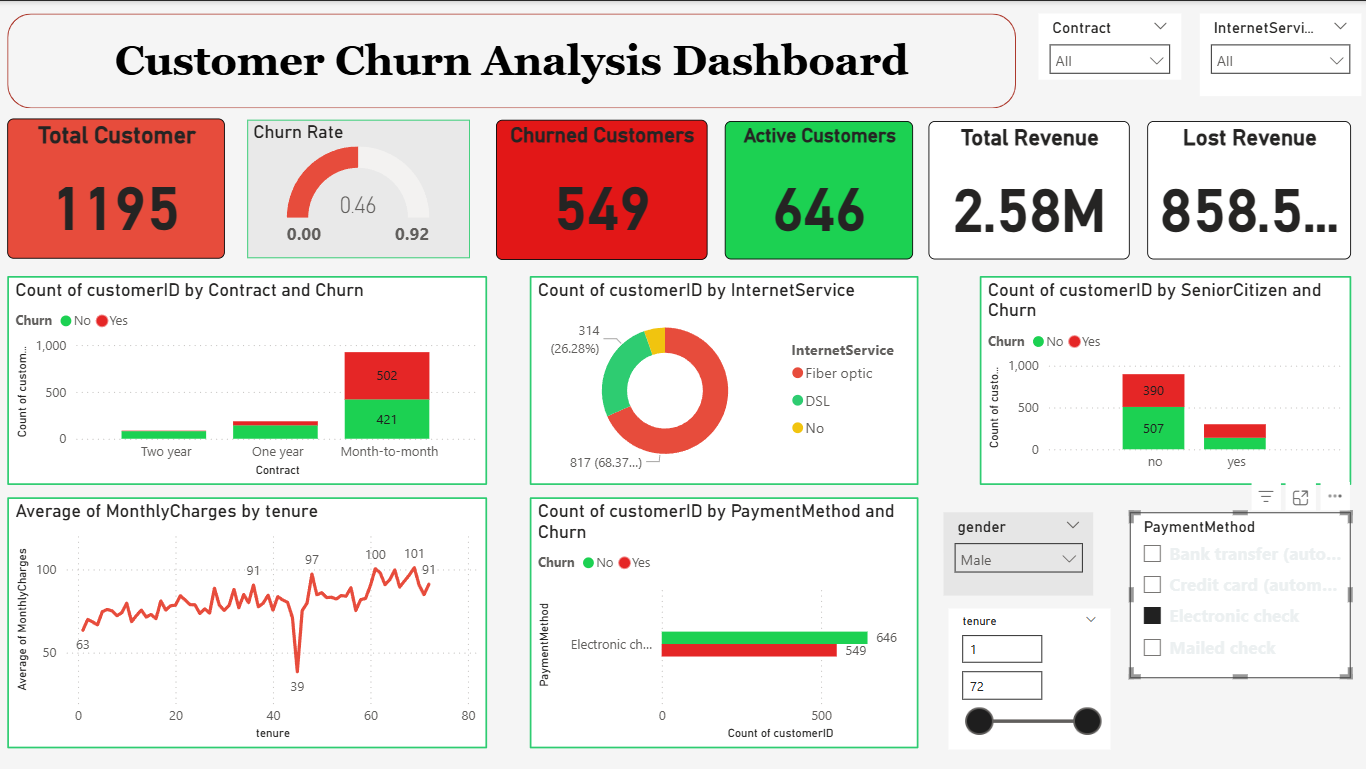

This screenshot's page, from the dashboard's own definition file:
{"tool":"powerbi","page":{"name":"Page 1","canvas":[1280,720],"ordinal":0},"visuals":[{"type":"card","title":"Total Customer ","fields":{"Values":["WA_Fn-UseC_-Telco-Customer-Churn (1).Total Customers"]},"box":[10.5,109.3,202.3,130.2],"z":0},{"type":"card","title":"Churned Customers","fields":{"Values":["WA_Fn-UseC_-Telco-Customer-Churn (1).Churned Customers"]},"box":[465.1,110.5,196.5,130.2],"z":1000},{"type":"card","title":"Active Customers","fields":{"Values":["WA_Fn-UseC_-Telco-Customer-Churn (1).Active Customers"]},"box":[677.9,111.6,175.6,129.1],"z":2000},{"type":"gauge","fields":{"Y":["WA_Fn-UseC_-Telco-Customer-Churn (1).Churn Rate"]},"box":[233.7,110.5,207,129.1],"z":3000},{"type":"card","title":"Total Revenue","fields":{"Values":["WA_Fn-UseC_-Telco-Customer-Churn (1).Total Revenue"]},"box":[867.4,111.6,187.2,129.1],"z":4000},{"type":"card","title":"Lost Revenue","fields":{"Values":["WA_Fn-UseC_-Telco-Customer-Churn (1).Lost Revenue"]},"box":[1070.9,111.6,189.5,129.1],"z":5000},{"type":"columnChart","fields":{"Category":["WA_Fn-UseC_-Telco-Customer-Churn (1).Contract"],"Series":["WA_Fn-UseC_-Telco-Customer-Churn (1).Churn"],"Y":["CountNonNull(WA_Fn-UseC_-Telco-Customer-Churn (1).customerID)"]},"box":[10.5,255.8,446.5,194.2],"z":6000},{"type":"donutChart","fields":{"Category":["WA_Fn-UseC_-Telco-Customer-Churn (1).InternetService"],"Y":["CountNonNull(WA_Fn-UseC_-Telco-Customer-Churn (1).customerID)"]},"box":[496.5,255.8,361.6,194.2],"z":7000},{"type":"lineChart","fields":{"Category":["WA_Fn-UseC_-Telco-Customer-Churn (1).tenure"],"Y":["Avg(WA_Fn-UseC_-Telco-Customer-Churn (1).MonthlyCharges)"]},"box":[10.5,461.6,446.5,233.7],"z":8000},{"type":"clusteredBarChart","fields":{"Category":["WA_Fn-UseC_-Telco-Customer-Churn (1).PaymentMethod"],"Y":["CountNonNull(WA_Fn-UseC_-Telco-Customer-Churn (1).customerID)"],"Series":["WA_Fn-UseC_-Telco-Customer-Churn (1).Churn"]},"box":[496.5,461.6,361.6,233.7],"z":9000},{"type":"columnChart","fields":{"Category":["WA_Fn-UseC_-Telco-Customer-Churn (1).SeniorCitizen"],"Y":["CountNonNull(WA_Fn-UseC_-Telco-Customer-Churn (1).customerID)"],"Series":["WA_Fn-UseC_-Telco-Customer-Churn (1).Churn"]},"box":[915.1,255.8,345.3,194.2],"z":10000},{"type":"slicer","fields":{"Values":["WA_Fn-UseC_-Telco-Customer-Churn (1).gender"]},"box":[881.4,475.6,139.5,77.9],"z":11000},{"type":"slicer","fields":{"Values":["WA_Fn-UseC_-Telco-Customer-Churn (1).Contract"]},"box":[969.8,11.6,132.6,61.6],"z":12000},{"type":"slicer","fields":{"Values":["WA_Fn-UseC_-Telco-Customer-Churn (1).InternetService"]},"box":[1119.8,11.6,150,76.7],"z":13000},{"type":"shape","box":[10.5,11.6,938.4,88.4],"z":14000},{"type":"slicer","fields":{"Values":["WA_Fn-UseC_-Telco-Customer-Churn (1).PaymentMethod"]},"box":[1054.7,475.6,205.8,154.7],"z":15000},{"type":"slicer","fields":{"Values":["WA_Fn-UseC_-Telco-Customer-Churn (1).tenure"]},"box":[886,565.1,150,130.2],"z":16000}]}

Visuals, with their boxes in screenshot pixels (x1, y1, x2, y2), scaled from the page's 1280x720 canvas onto the 1366x769 screenshot:
"Total Customer " card: (left=11, top=117, right=227, bottom=256)
"Churned Customers" card: (left=496, top=118, right=706, bottom=257)
"Active Customers" card: (left=723, top=119, right=911, bottom=257)
gauge - WA_Fn-UseC_-Telco-Customer-Churn (1).Churn Rate: (left=249, top=118, right=470, bottom=256)
"Total Revenue" card: (left=926, top=119, right=1125, bottom=257)
"Lost Revenue" card: (left=1143, top=119, right=1345, bottom=257)
columnChart - WA_Fn-UseC_-Telco-Customer-Churn (1).Contract x WA_Fn-UseC_-Telco-Customer-Churn (1).Churn: (left=11, top=273, right=488, bottom=481)
donutChart - WA_Fn-UseC_-Telco-Customer-Churn (1).InternetService x CountNonNull(WA_Fn-UseC_-Telco-Customer-Churn (1).customerID): (left=530, top=273, right=916, bottom=481)
lineChart - WA_Fn-UseC_-Telco-Customer-Churn (1).tenure x Avg(WA_Fn-UseC_-Telco-Customer-Churn (1).MonthlyCharges): (left=11, top=493, right=488, bottom=743)
clusteredBarChart - WA_Fn-UseC_-Telco-Customer-Churn (1).PaymentMethod x CountNonNull(WA_Fn-UseC_-Telco-Customer-Churn (1).customerID): (left=530, top=493, right=916, bottom=743)
columnChart - WA_Fn-UseC_-Telco-Customer-Churn (1).SeniorCitizen x CountNonNull(WA_Fn-UseC_-Telco-Customer-Churn (1).customerID): (left=977, top=273, right=1345, bottom=481)
slicer - WA_Fn-UseC_-Telco-Customer-Churn (1).gender: (left=941, top=508, right=1089, bottom=591)
slicer - WA_Fn-UseC_-Telco-Customer-Churn (1).Contract: (left=1035, top=12, right=1176, bottom=78)
slicer - WA_Fn-UseC_-Telco-Customer-Churn (1).InternetService: (left=1195, top=12, right=1355, bottom=94)
shape: (left=11, top=12, right=1013, bottom=107)
slicer - WA_Fn-UseC_-Telco-Customer-Churn (1).PaymentMethod: (left=1126, top=508, right=1345, bottom=673)
slicer - WA_Fn-UseC_-Telco-Customer-Churn (1).tenure: (left=946, top=604, right=1106, bottom=743)
